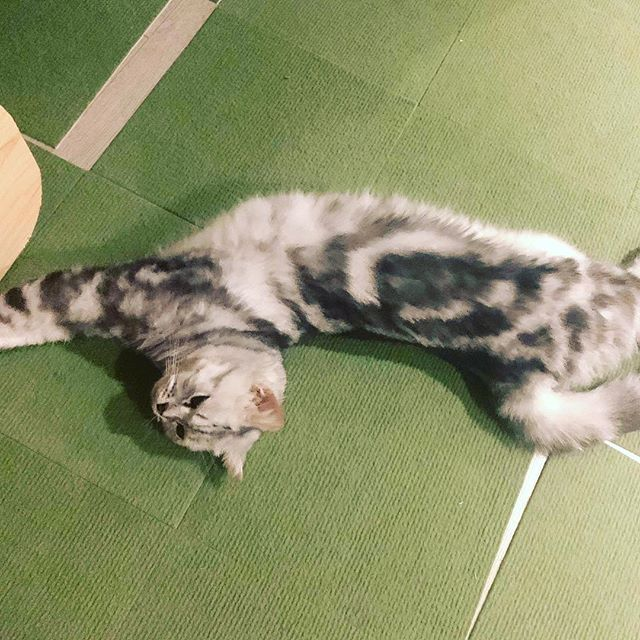cat: (141, 341, 300, 483)
